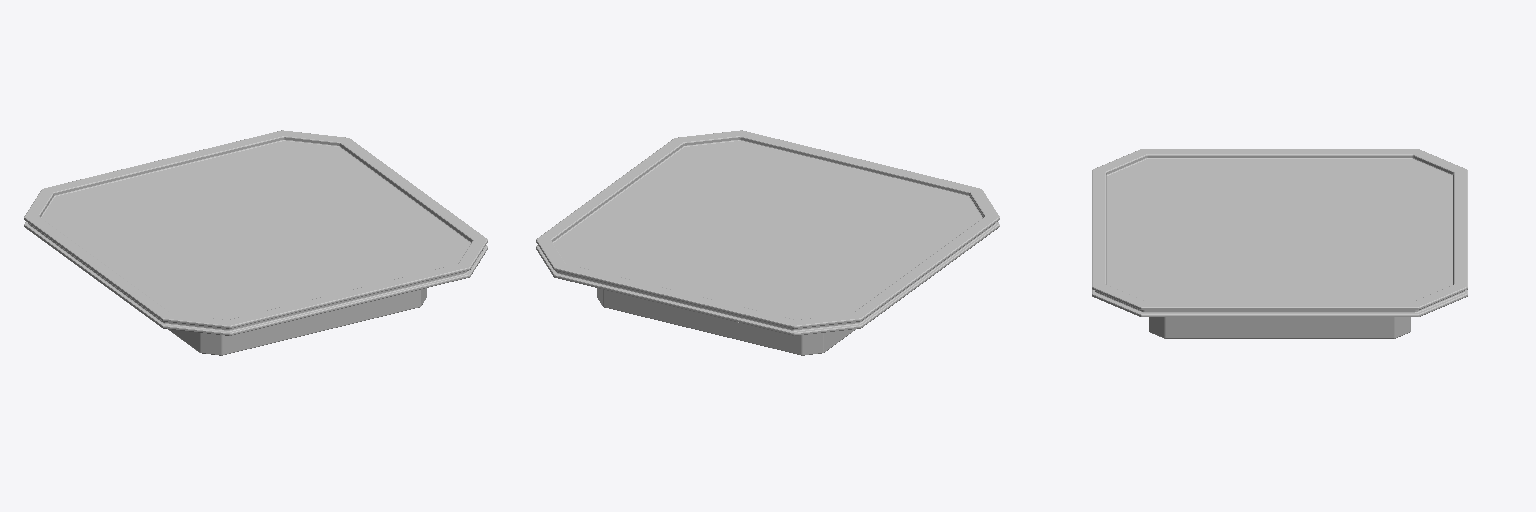
The model's file is PlatformBasic.obj.
3 views of the same model, side by side, from view 1: azimuth 30°, elevation 25°; view 2: azimuth 150°, elevation 25°; view 3: azimuth 270°, elevation 25° (orthographic).
Parts seen in each view (by area): view 1: PlatformBasic_Cube; view 2: PlatformBasic_Cube; view 3: PlatformBasic_Cube.
Part boxes in pixels (x1,y1,x2,y2): PlatformBasic_Cube: (24, 130, 487, 355); PlatformBasic_Cube: (536, 130, 999, 355); PlatformBasic_Cube: (1092, 149, 1467, 338).
Bounding box in the file's own units: 10 × 1.64 × 10.